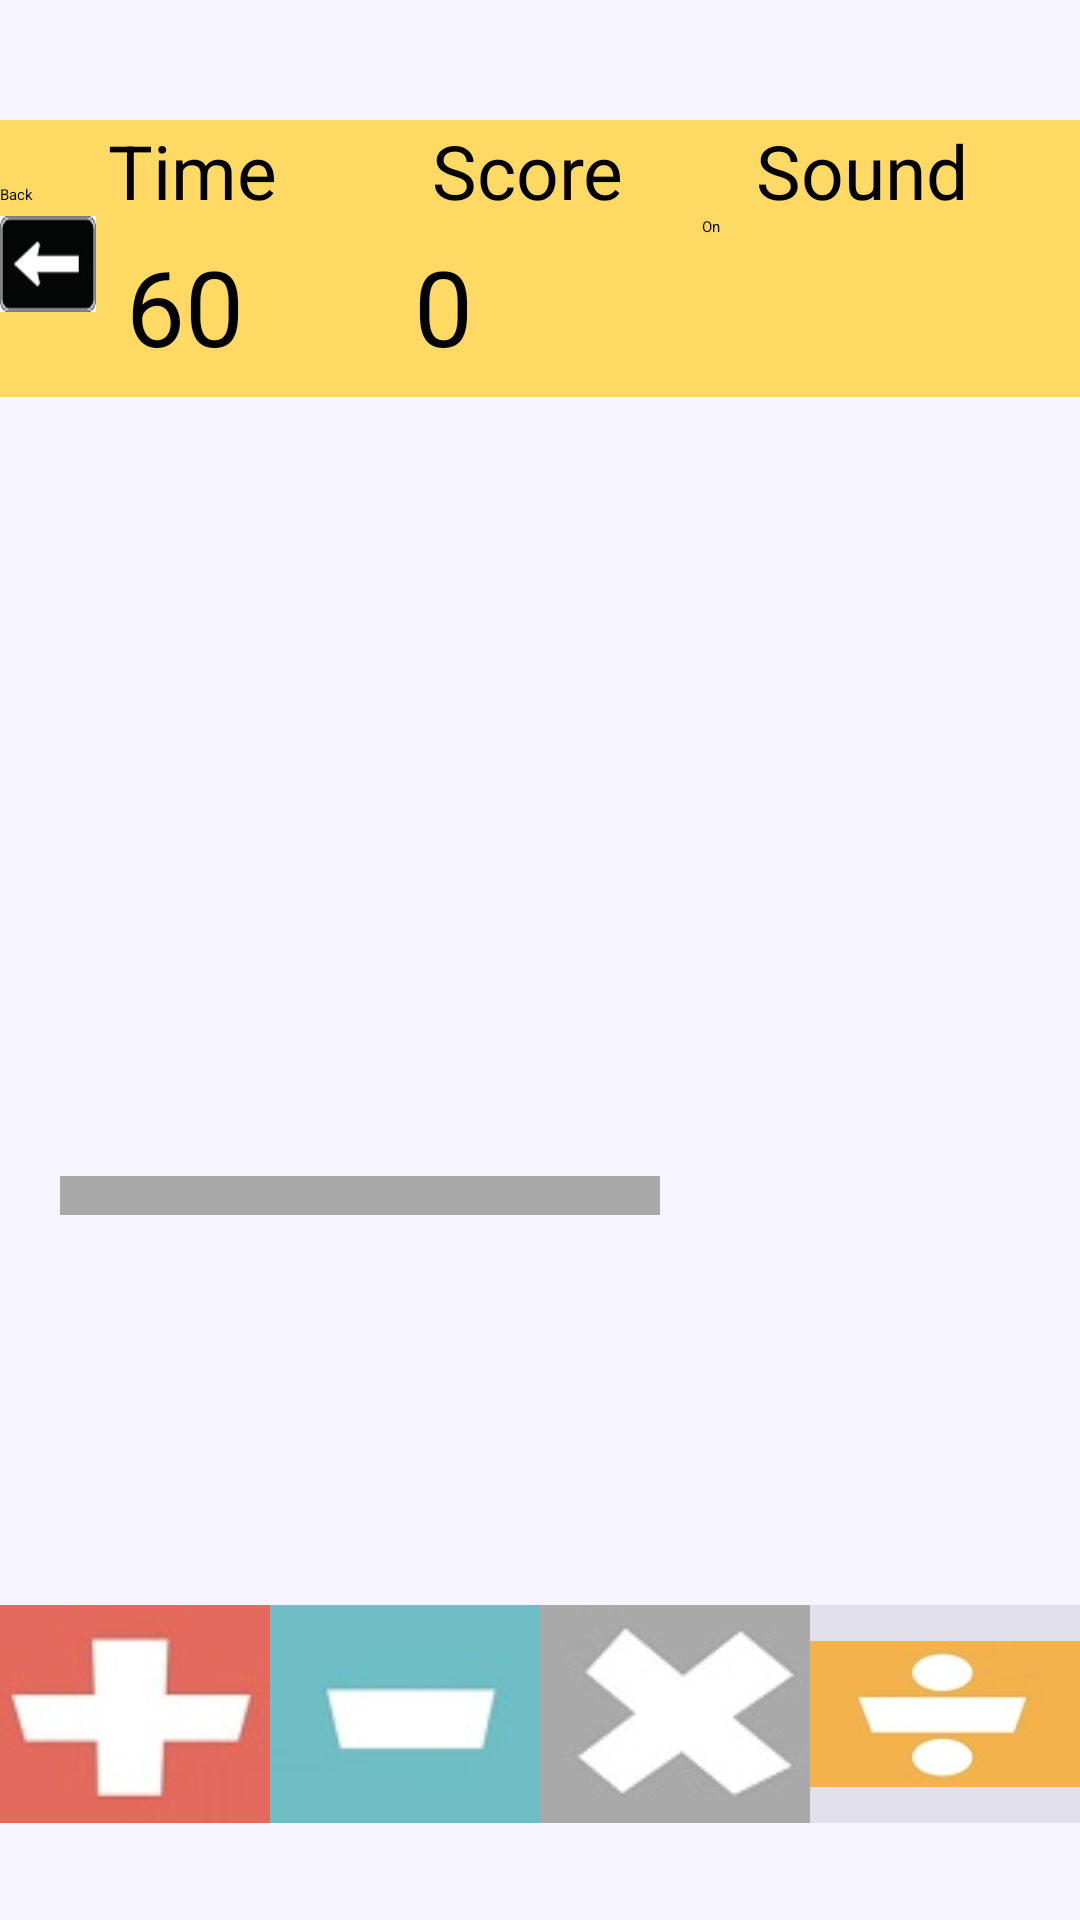

Screen size 1080w x 1920h. Icon name, then its center in pixels as point (x, y):
add: point (135, 1714)
div: point (945, 1714)
mul: point (675, 1714)
sub: point (405, 1714)
